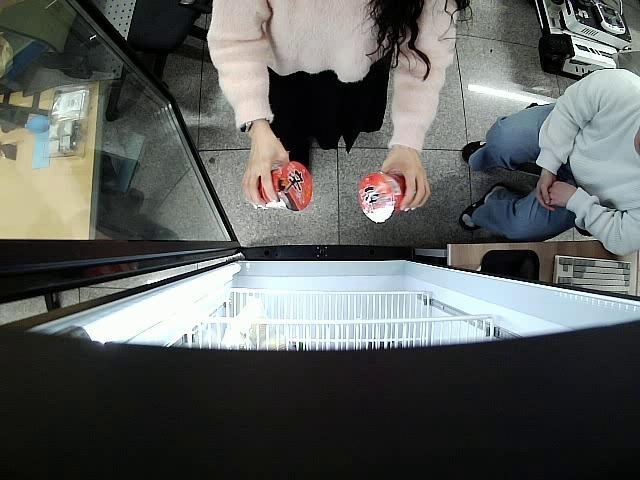02_shinRamen_S: (259, 160, 314, 211), (359, 174, 406, 224)
